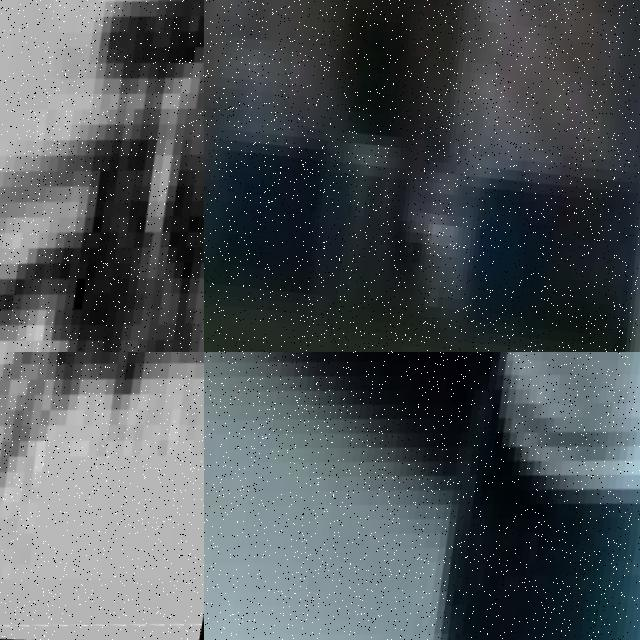0: (0, 0, 204, 352), (0, 352, 204, 640)
drone: (204, 352, 640, 640)
